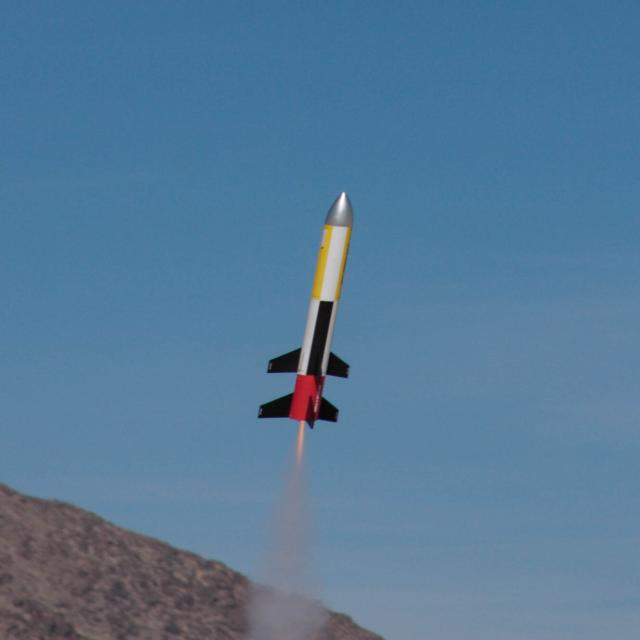Rocket: (256, 191, 356, 430)
